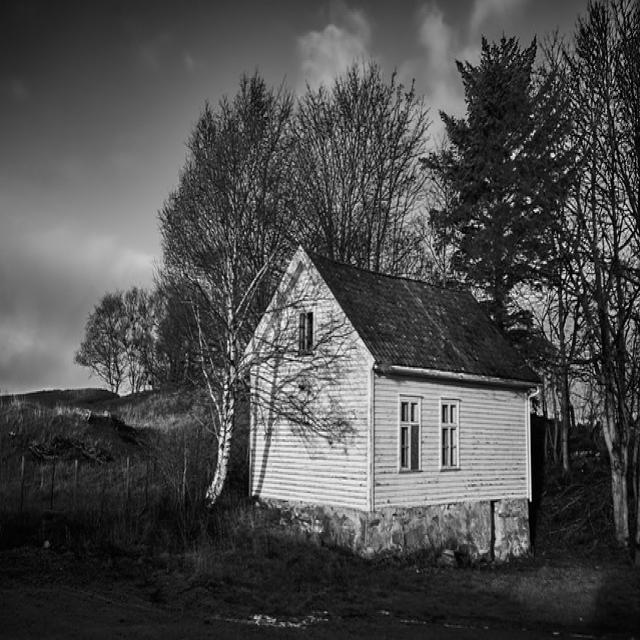Normal_building: (237, 240, 543, 572)
